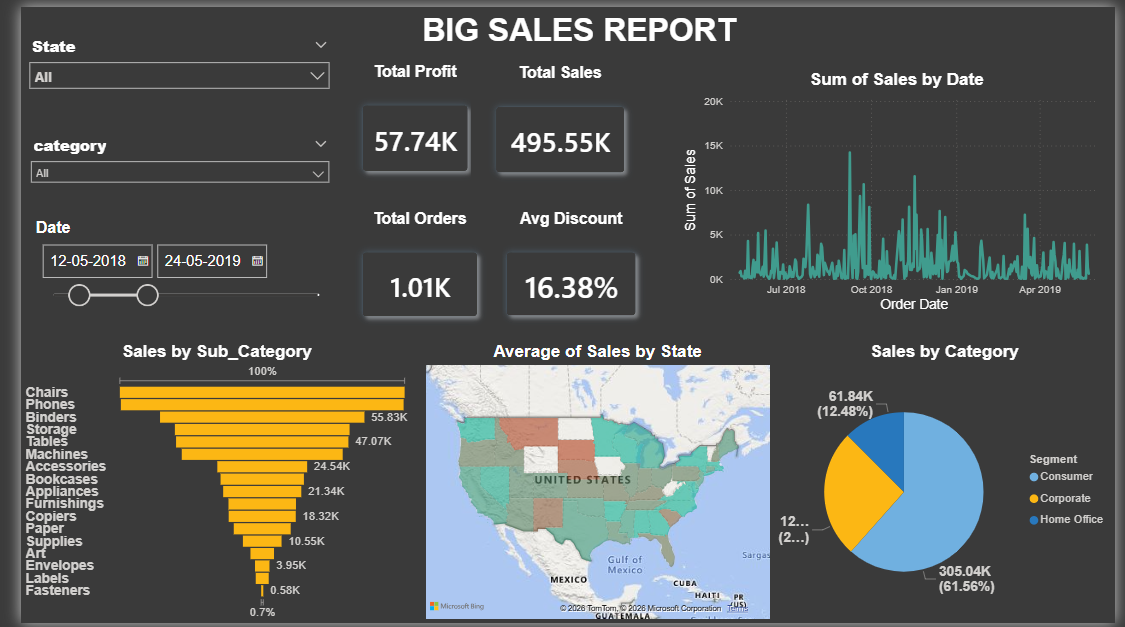

This screenshot's page, from the dashboard's own definition file:
{"tool":"powerbi","page":{"name":"Page 1","canvas":[1280,720],"ordinal":0},"visuals":[{"type":"funnel","title":"Sales by Sub_Category","fields":{"Category":["big sales data.Sub-Category"],"Y":["Sum(big sales data.Sales)"]},"box":[0,391.7,458.3,328.3],"z":0},{"type":"filledMap","fields":{"Category":["big sales data.State"]},"box":[467.6,391.3,412,329.3],"z":1000},{"type":"pieChart","title":"Sales by Category","fields":{"Category":["big sales data.Segment"],"Y":["Sum(big sales data.Sales)"]},"box":[881.2,391.3,399.2,329.3],"z":2000},{"type":"lineChart","title":"Sum of Sales by Date","fields":{"Category":["big sales data.Order Date"],"Y":["Sum(big sales data.Sales)"]},"box":[771,73.7,508.4,287.2],"z":3000},{"type":"textbox","box":[423.1,0,472.4,57.3],"z":4000},{"type":"slicer","fields":{"Values":["big sales data.State"]},"box":[0,28.3,370.4,77.5],"z":5000},{"type":"slicer","fields":{"Values":["big sales data.Segment"]},"box":[1.9,143.6,368.5,92.6],"z":6000},{"type":"cardVisual","title":"Avg Discount","fields":{"Data":["Avg(big sales data.Discount)"]},"box":[538.6,236.2,209.8,153.1],"z":7000},{"type":"cardVisual","title":"Total Orders","fields":{"Data":["Count(big sales data.Order ID)"]},"box":[370.6,237,192.5,154.3],"z":8000},{"type":"slicer","title":"     Date","fields":{"Values":["big sales data.Order Date"]},"box":[12.3,245.6,357.9,115.8],"z":9000},{"type":"cardVisual","title":"Total Profit","fields":{"Data":["Sum(big sales data.Profit)"]},"box":[370.6,65.2,181.3,155.9],"z":10000},{"type":"cardVisual","title":"Total Sales","fields":{"Data":["Sum(big sales data.Sales)"]},"box":[526.5,66.8,208.4,155.9],"z":11000}]}

Visuals, with their boxes in screenshot pixels (x1, y1, x2, y2), scaled from the page's 1280x720 canvas onto the 1125x627 screenshot:
"Sales by Sub_Category" funnel: locate(0, 341, 403, 626)
filledMap - big sales data.State: locate(411, 341, 773, 626)
"Sales by Category" pieChart: locate(774, 341, 1124, 626)
"Sum of Sales by Date" lineChart: locate(678, 64, 1124, 314)
textbox: locate(372, 0, 787, 50)
slicer - big sales data.State: locate(0, 25, 326, 92)
slicer - big sales data.Segment: locate(2, 125, 326, 206)
"Avg Discount" cardVisual: locate(473, 206, 658, 339)
"Total Orders" cardVisual: locate(326, 206, 495, 341)
"     Date" slicer: locate(11, 214, 325, 315)
"Total Profit" cardVisual: locate(326, 57, 485, 193)
"Total Sales" cardVisual: locate(463, 58, 646, 194)
